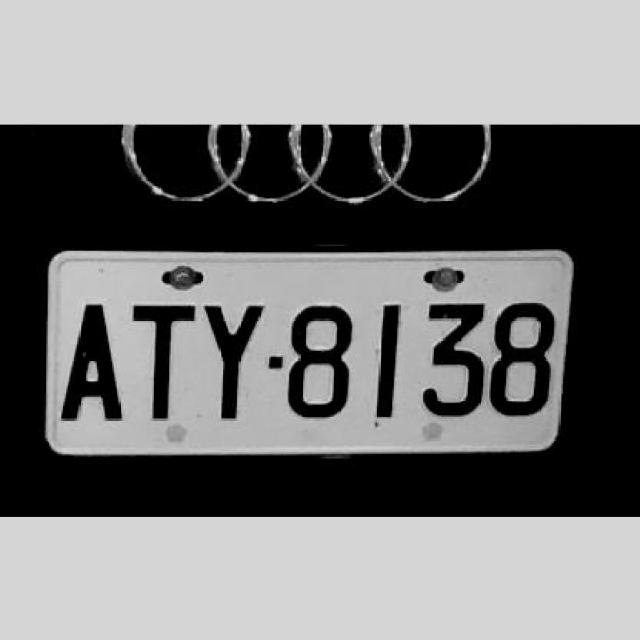-: (265, 352, 283, 371)
1: (372, 304, 402, 418)
3: (423, 303, 488, 415)
8: (288, 297, 354, 423), (490, 297, 556, 421)
A: (57, 300, 126, 428)
T: (130, 302, 202, 422)
Y: (199, 297, 266, 423)
